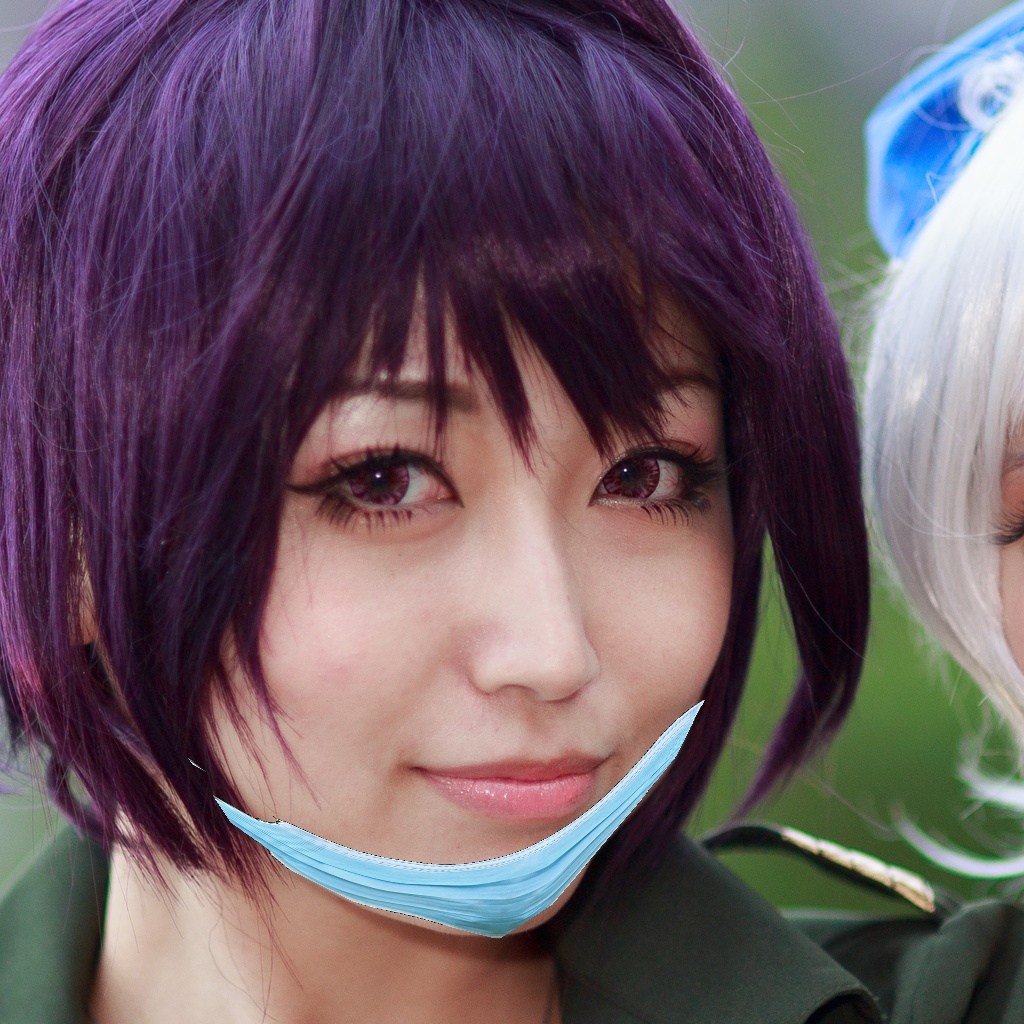mask_weared_incorrect: (161, 351, 743, 958)
